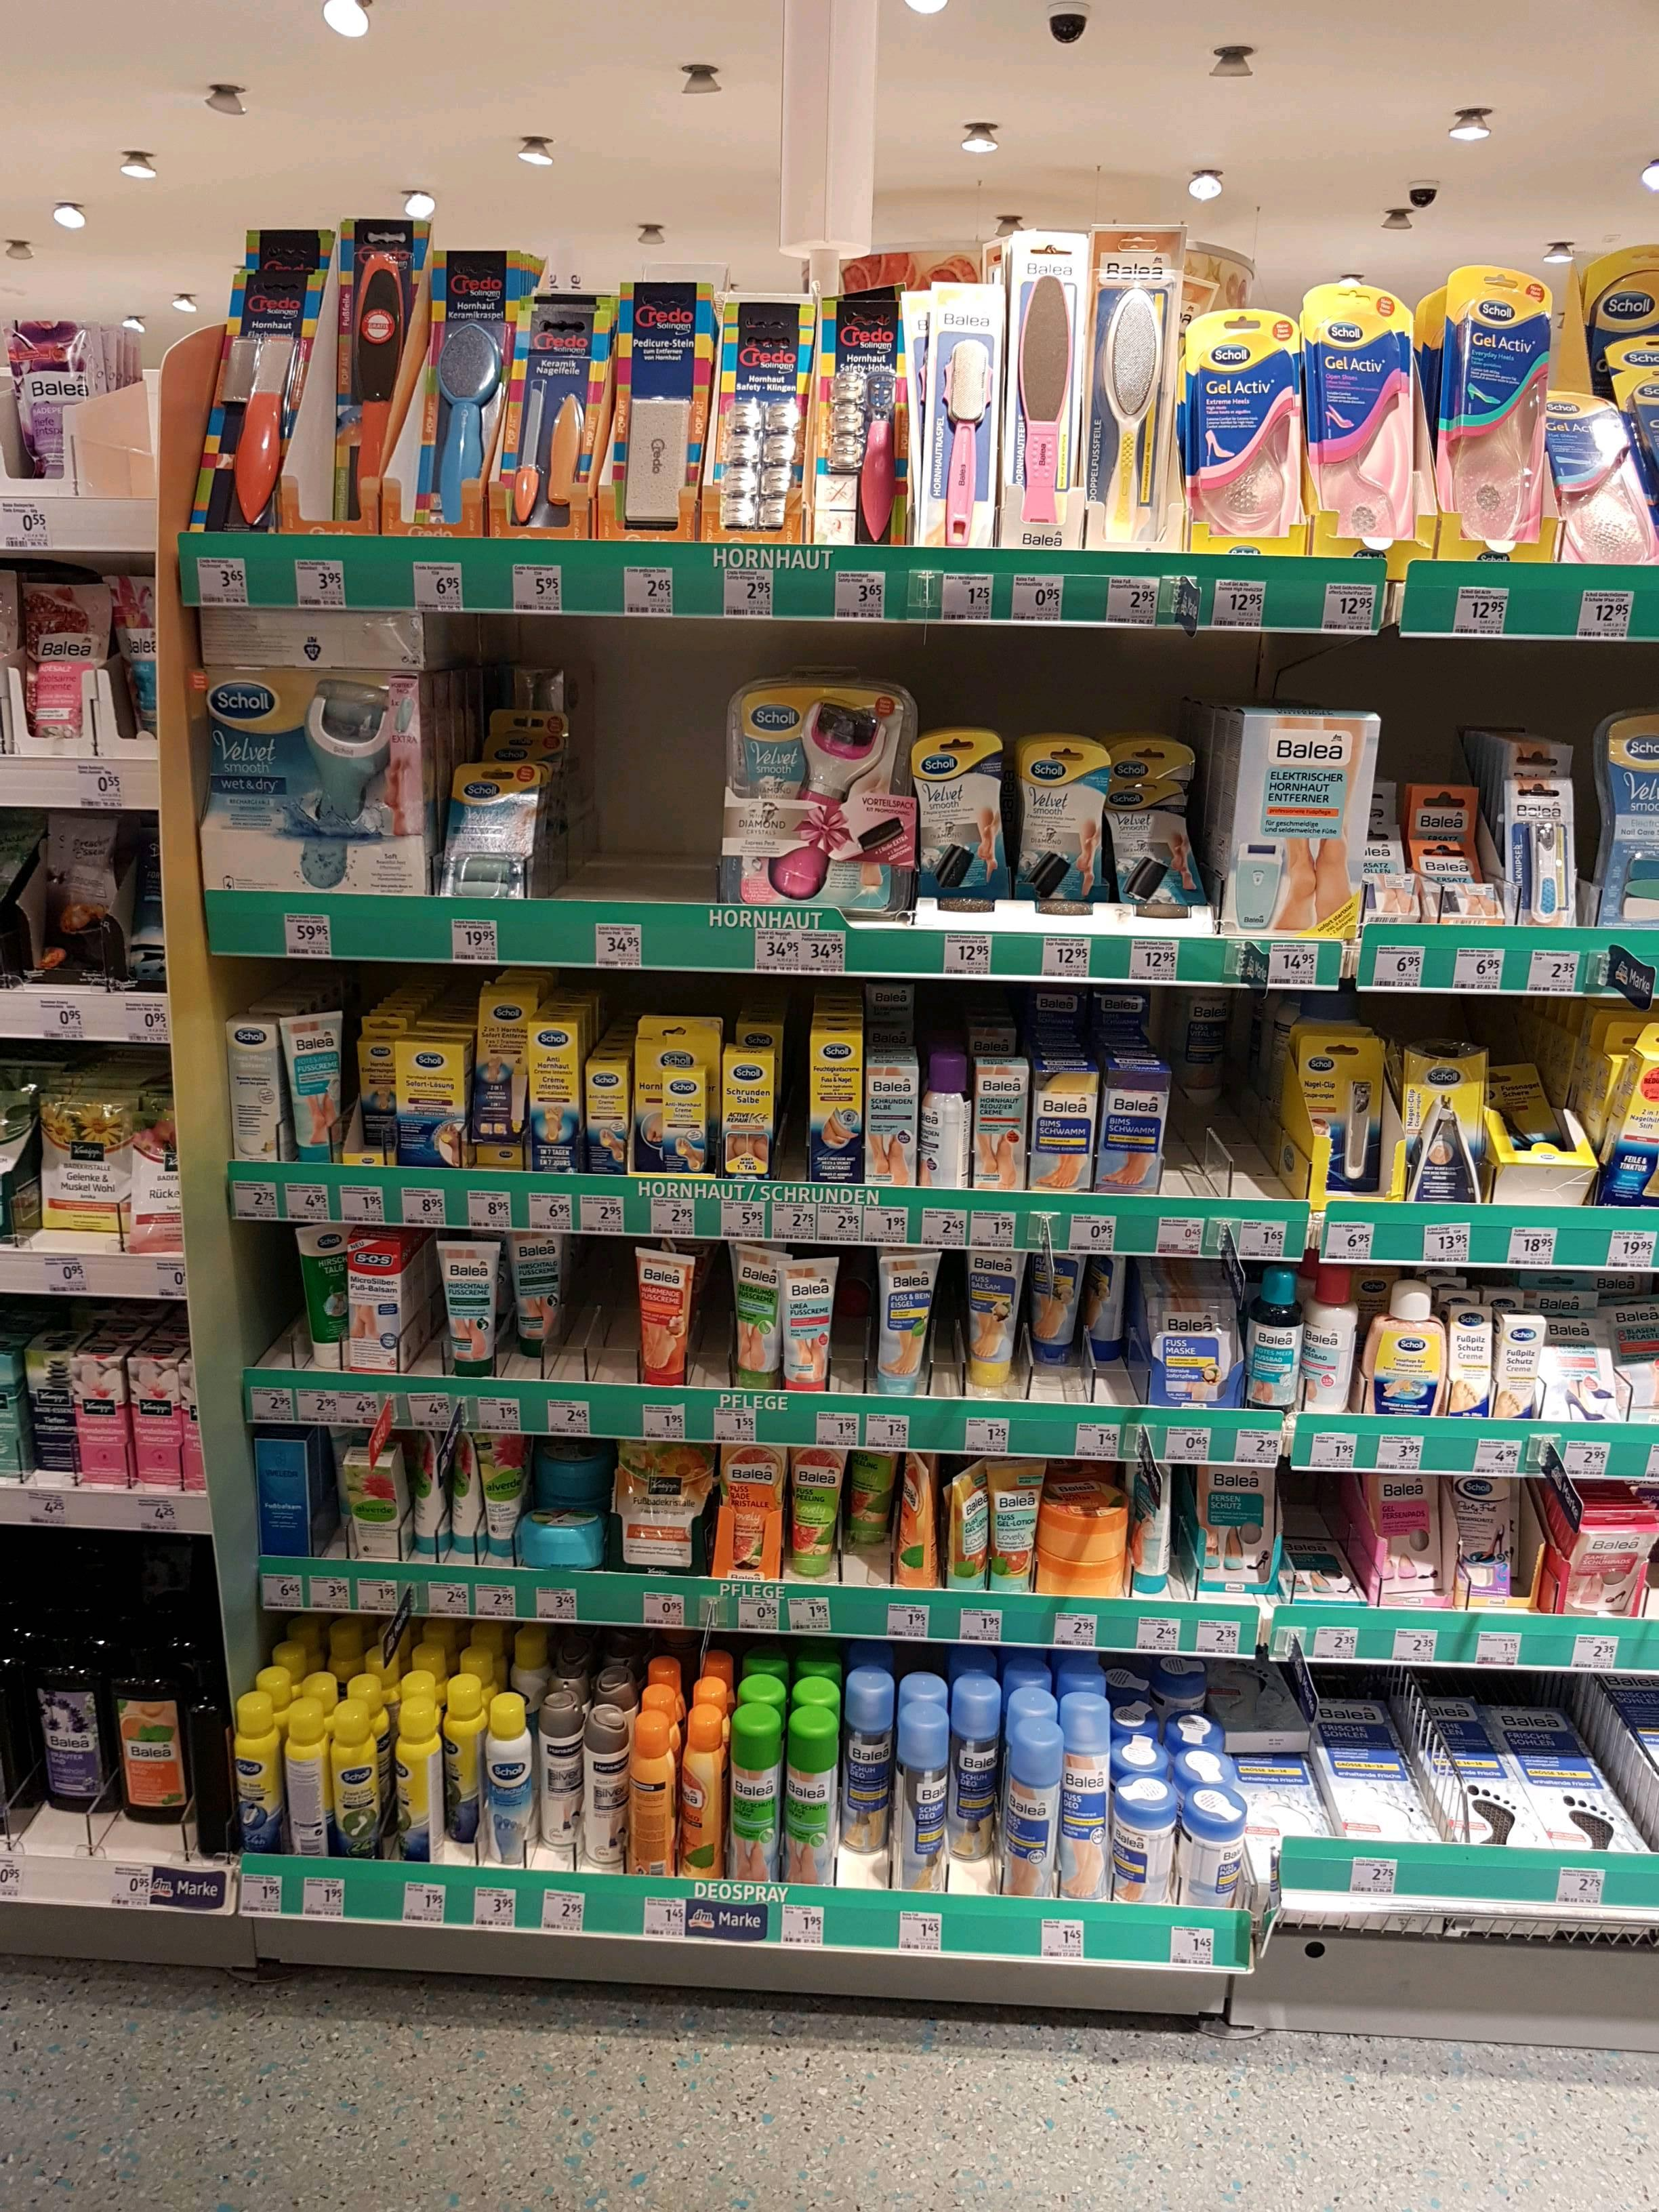misalignment: (1486, 1064, 1593, 1205), (286, 1226, 352, 1369), (335, 1447, 404, 1557), (1274, 1531, 1364, 1608), (946, 1463, 986, 1594), (404, 1439, 448, 1555), (1136, 1456, 1171, 1597), (896, 1461, 934, 1587), (450, 1439, 481, 1554)
